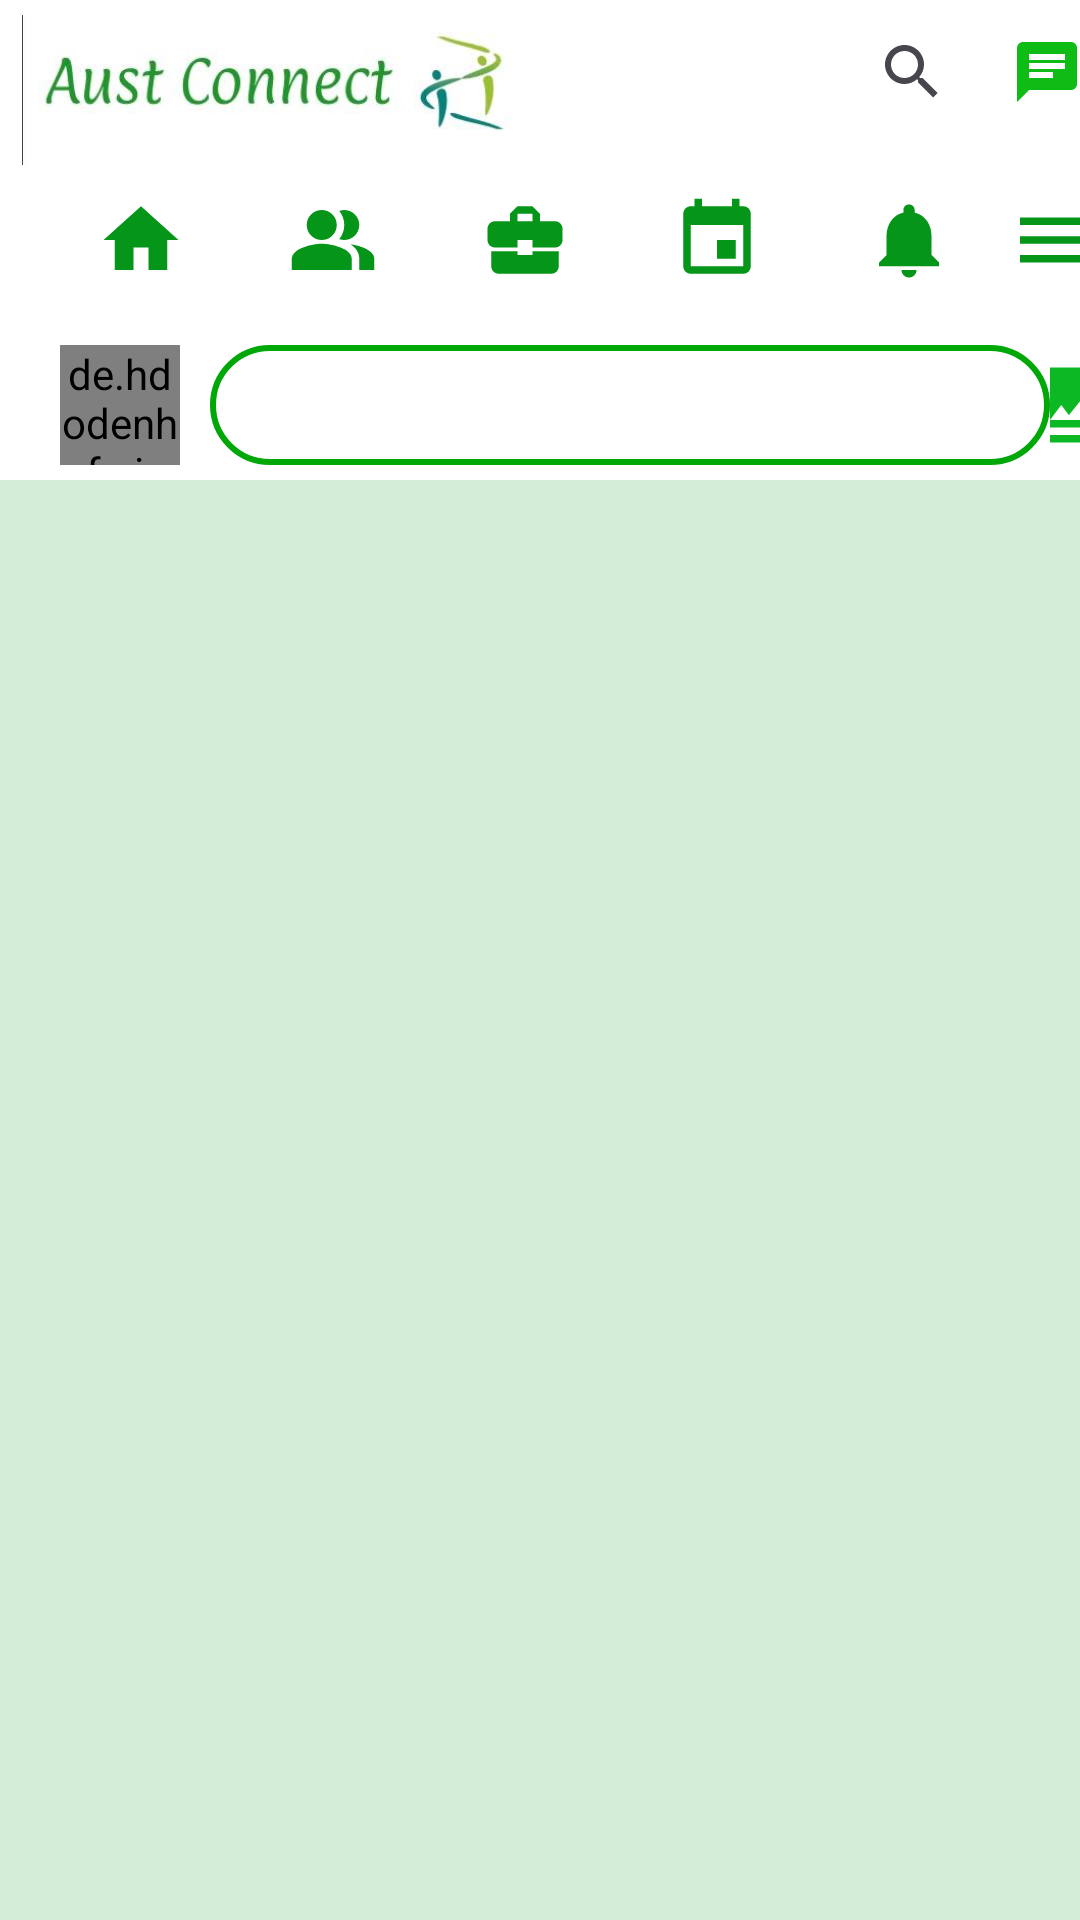

Where to tap for icons on this 1080x1920 app screen, as (x=x, y=y):
business center: (x=525, y=240)
chat: (x=1047, y=72)
event: (x=717, y=236)
home: (x=141, y=238)
menu: (x=1050, y=240)
notifications: (x=909, y=241)
people: (x=333, y=240)
